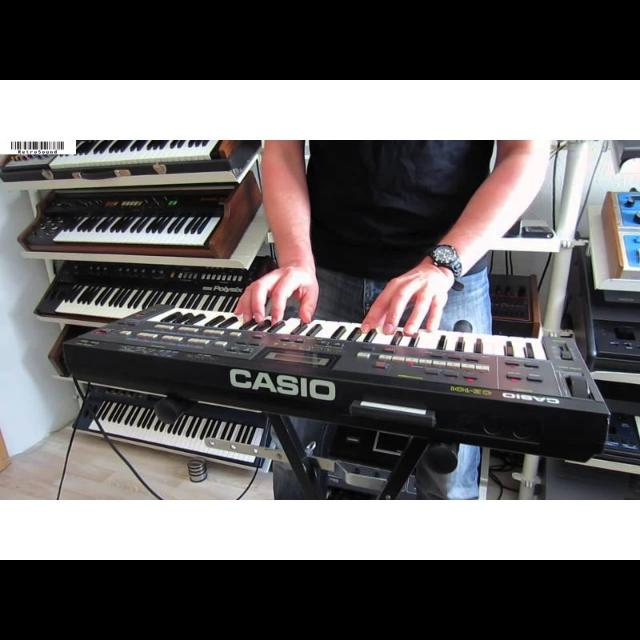Electronic-Keyboard: (55, 299, 607, 443), (21, 197, 235, 253)
